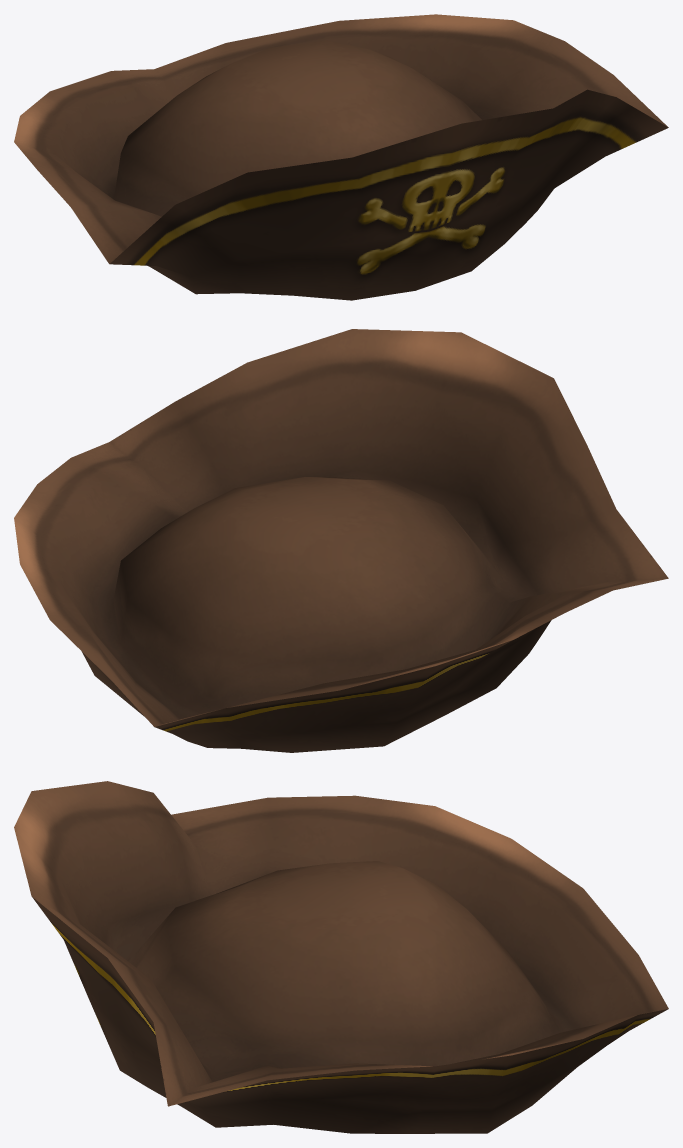
Rendered from Hat_02.fbx.
3 renders of one model, top to bottom at view 1: azimuth 30°, elevation 25°; view 2: azimuth 150°, elevation 25°; view 3: azimuth 270°, elevation 25°, orthographic. The views are drawn at different scales.
Parts seen in each view (by area): view 1: Hat_02; view 2: Hat_02; view 3: Hat_02.
Part boxes in pixels (<box>): Hat_02: <box>14,14,668,300</box>; Hat_02: <box>14,329,668,752</box>; Hat_02: <box>14,781,668,1133</box>.
Size of the model in its own units: 51.36 by 20.17 by 48.78.
